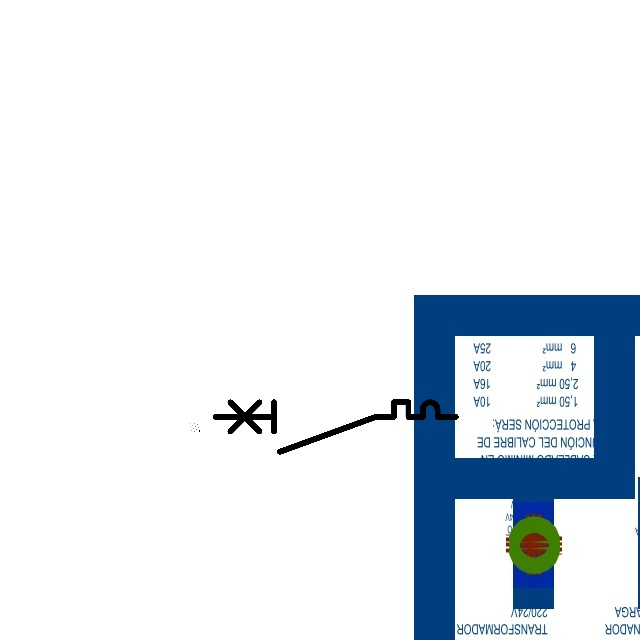interruptor_termomagnetico: (209, 396, 462, 458)
